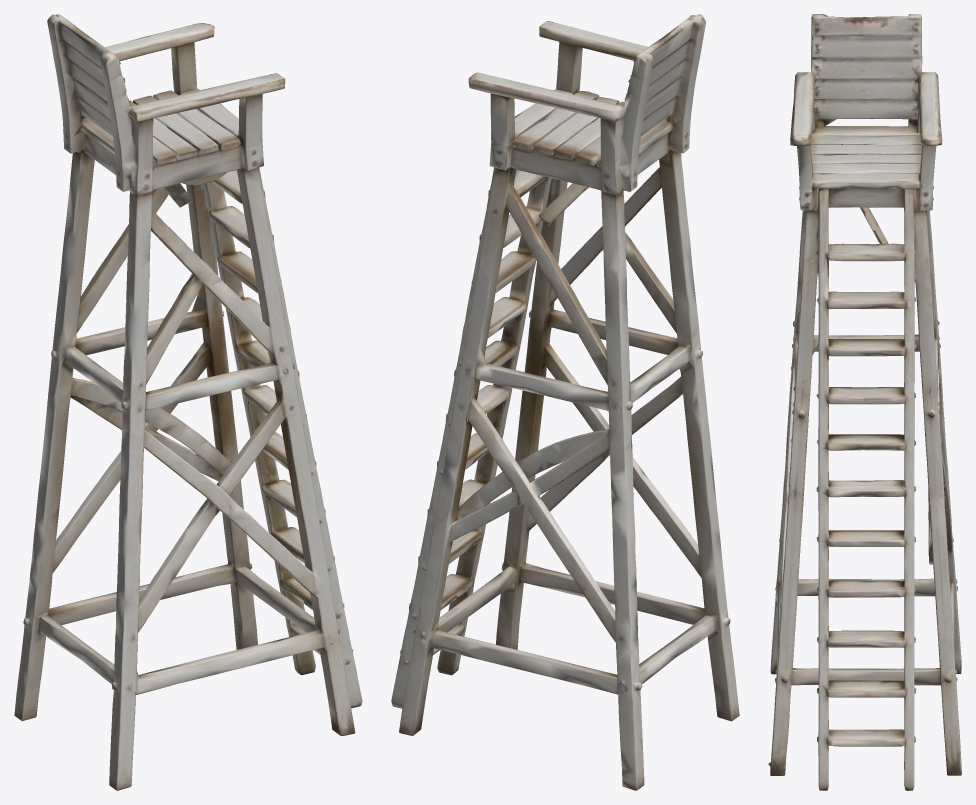
The model's file is gen-lifeguard-chair.glb.
3 renders of one model, left to right at view 1: azimuth 30°, elevation 25°; view 2: azimuth 150°, elevation 25°; view 3: azimuth 270°, elevation 25°, orthographic. The views are drawn at different scales.
Visible parts, largest first — view 1: tripo_node_3349195a-e2b6-4f18-b540-1906458d12f0; view 2: tripo_node_3349195a-e2b6-4f18-b540-1906458d12f0; view 3: tripo_node_3349195a-e2b6-4f18-b540-1906458d12f0.
Boxes of the visible parts, left/top/right/bottom form: tripo_node_3349195a-e2b6-4f18-b540-1906458d12f0: left=14, top=14, right=362, bottom=790; tripo_node_3349195a-e2b6-4f18-b540-1906458d12f0: left=391, top=14, right=739, bottom=790; tripo_node_3349195a-e2b6-4f18-b540-1906458d12f0: left=768, top=14, right=961, bottom=790.
Size of the model in its own units: 0.3988 by 1 by 0.2655.
Materials: 1 (1 with a texture image).
